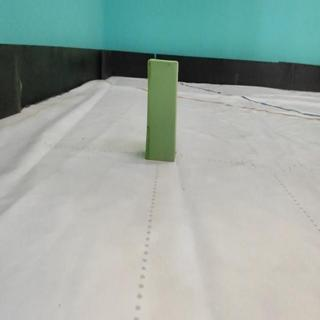greenbox: (146, 59, 177, 163)
